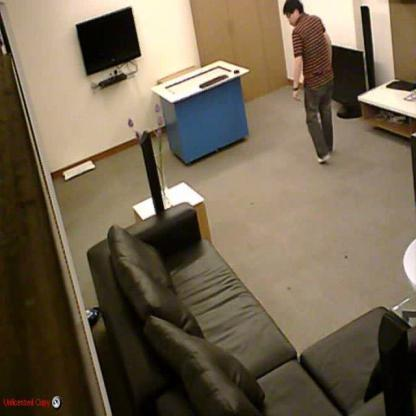Person: (282, 0, 334, 163)
